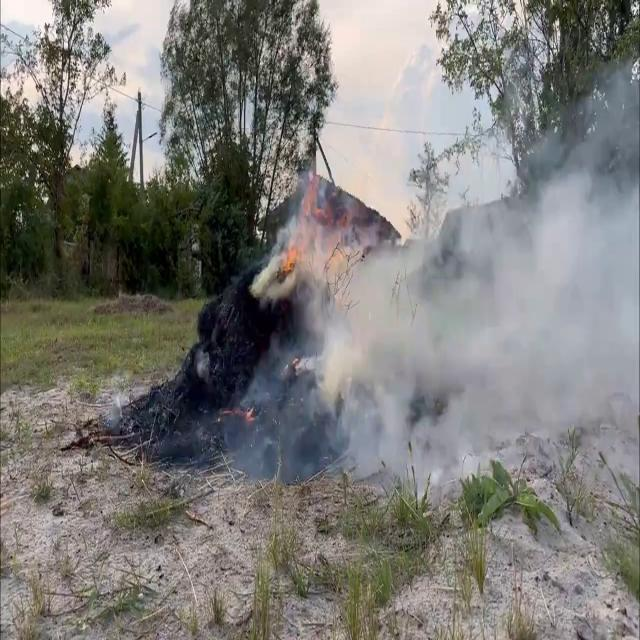Smoke: (256, 40, 638, 502)
